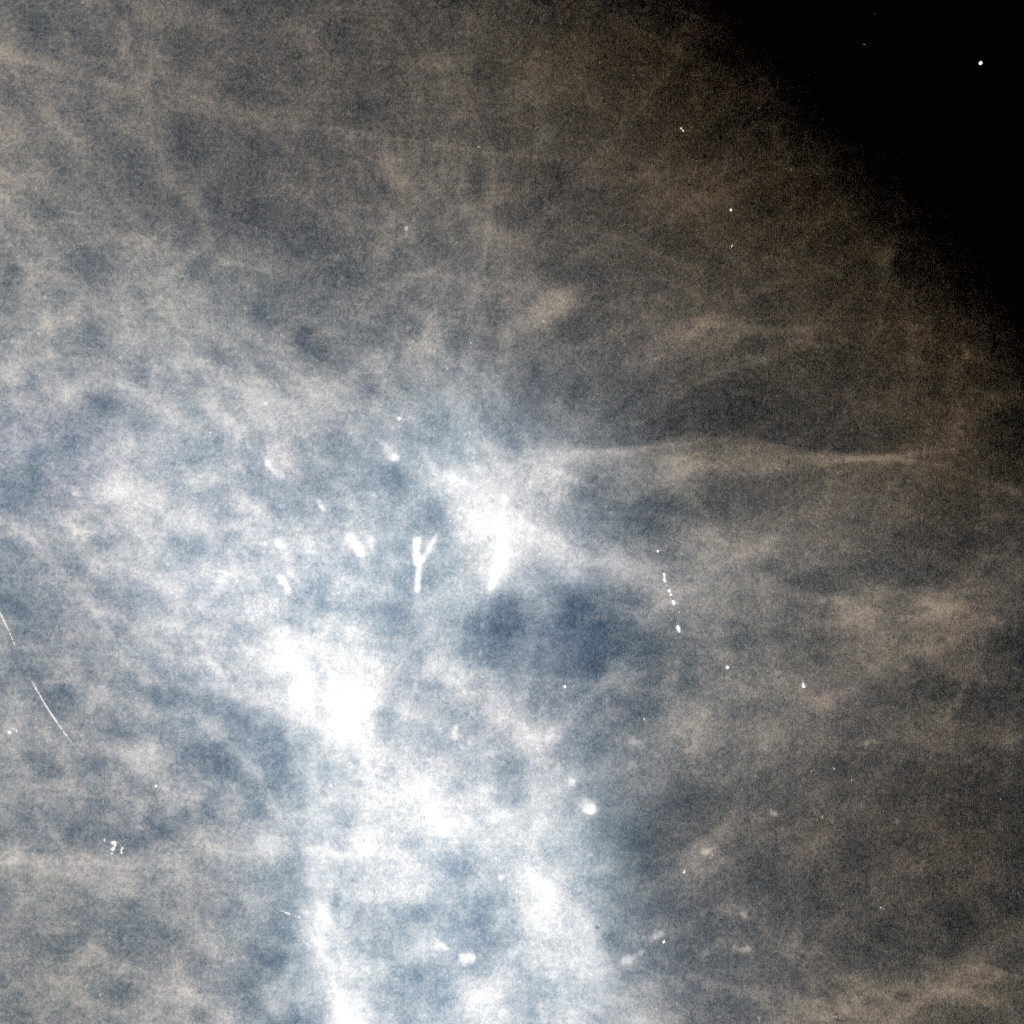tumor: (308, 332, 716, 692)
